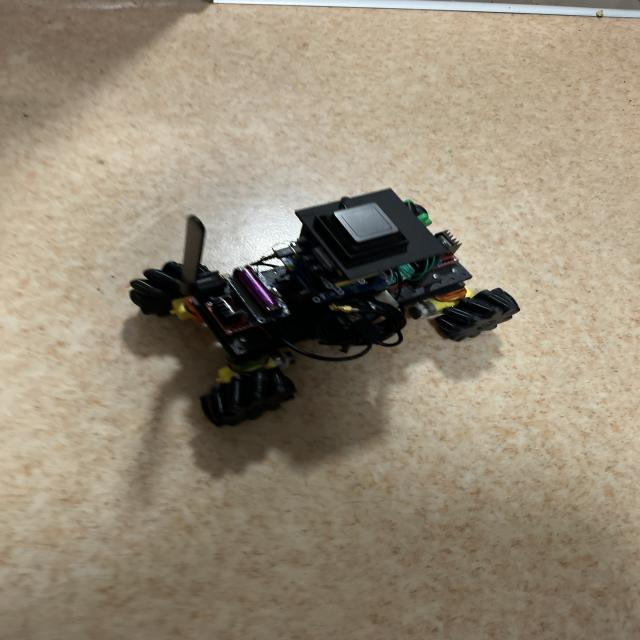robot: (130, 189, 519, 426)
